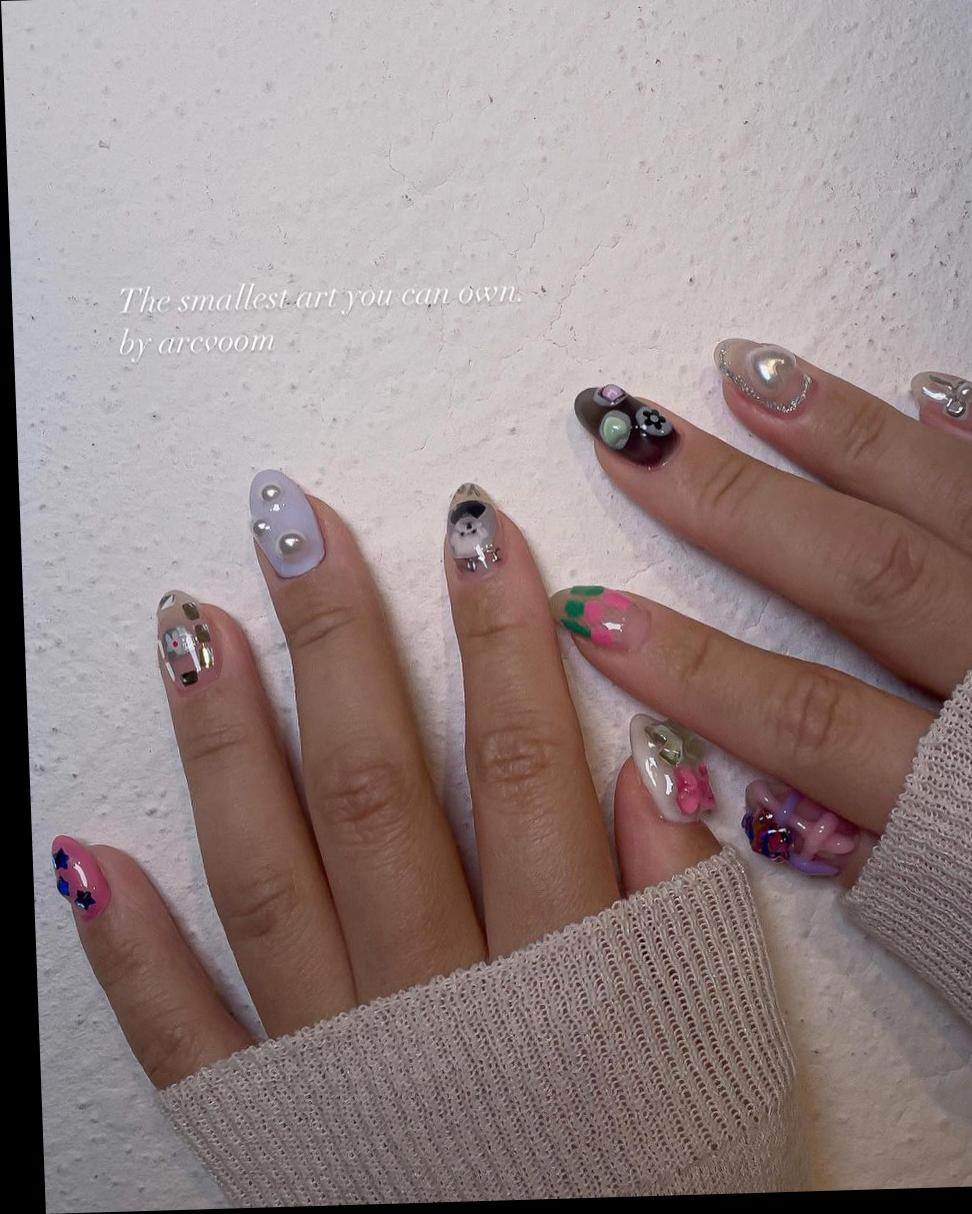nail: (738, 773, 859, 879), (626, 709, 715, 824), (571, 380, 676, 469), (245, 465, 326, 579), (711, 333, 815, 418), (152, 586, 219, 689), (546, 581, 640, 649), (48, 831, 111, 920), (442, 480, 501, 574), (908, 367, 972, 434)
